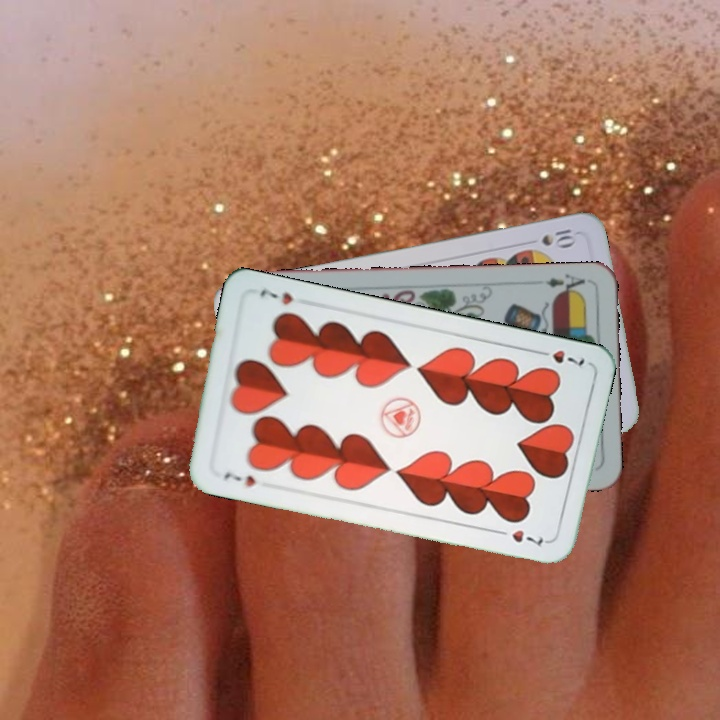EA: (541, 270, 587, 297)
H7: (531, 345, 587, 369), (220, 467, 258, 490)
S10: (537, 225, 579, 249)
